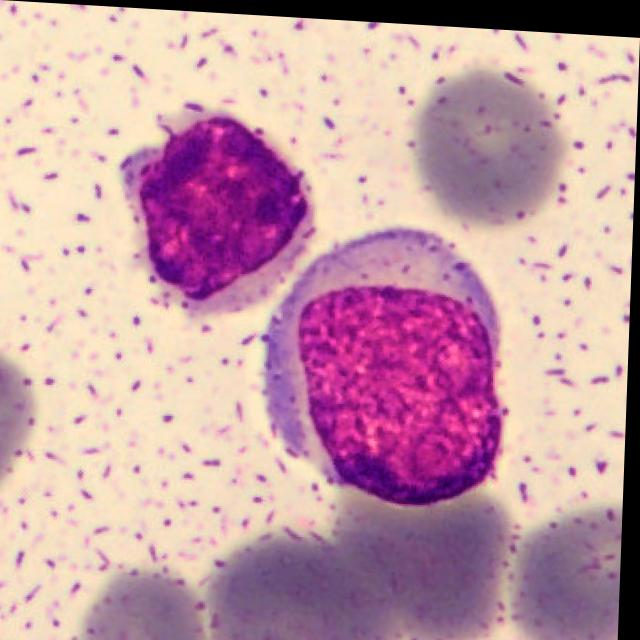Mieloblasto: (266, 220, 510, 500)
